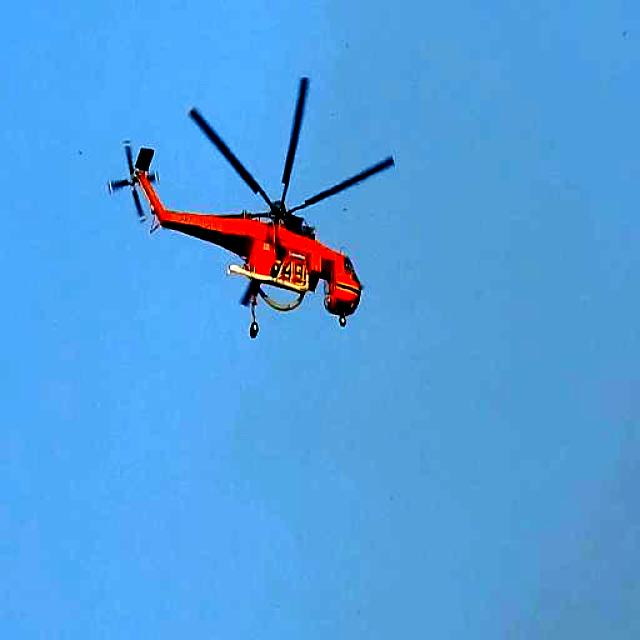drone: (98, 45, 444, 371)
